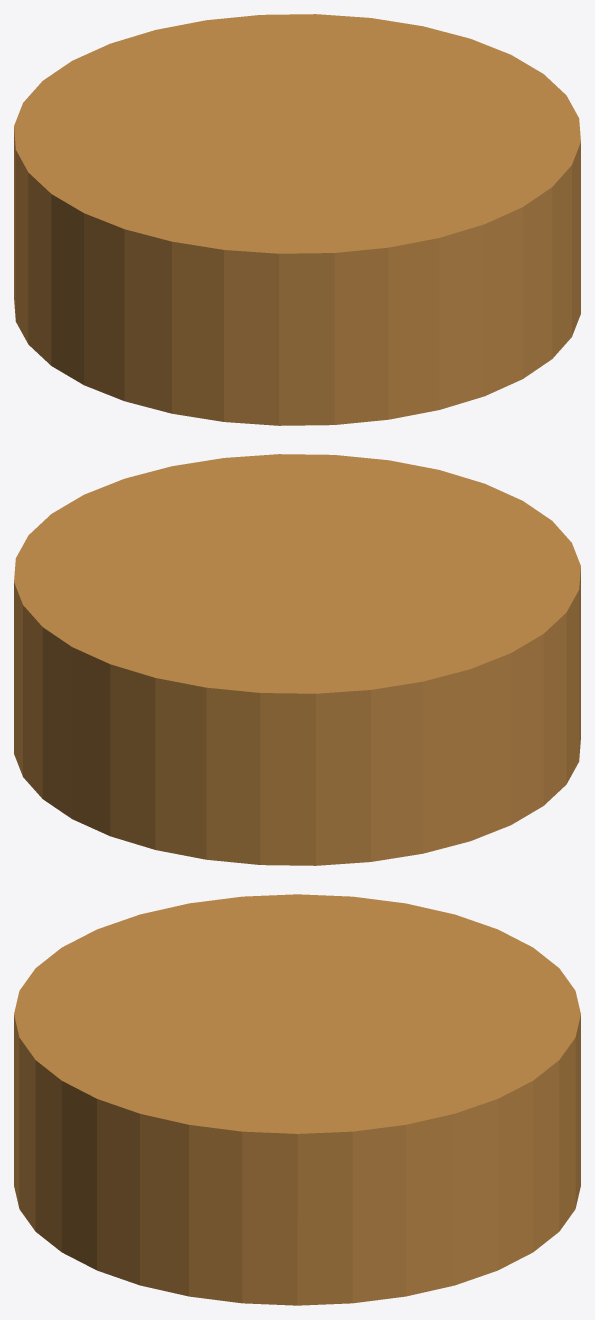
The model's file is nomad_market_stand.fbx.
3 views of the same model, one above another, from view 1: azimuth 30°, elevation 25°; view 2: azimuth 150°, elevation 25°; view 3: azimuth 270°, elevation 25° (orthographic).
Visible parts, largest first — view 1: NomadMarketStand; view 2: NomadMarketStand; view 3: NomadMarketStand.
Boxes of the visible parts, x1,y1,x2,y2 form: NomadMarketStand: [14, 14, 580, 425]; NomadMarketStand: [14, 454, 580, 865]; NomadMarketStand: [14, 894, 580, 1305].
Size of the model in its own units: 1274 by 426 by 1274.
